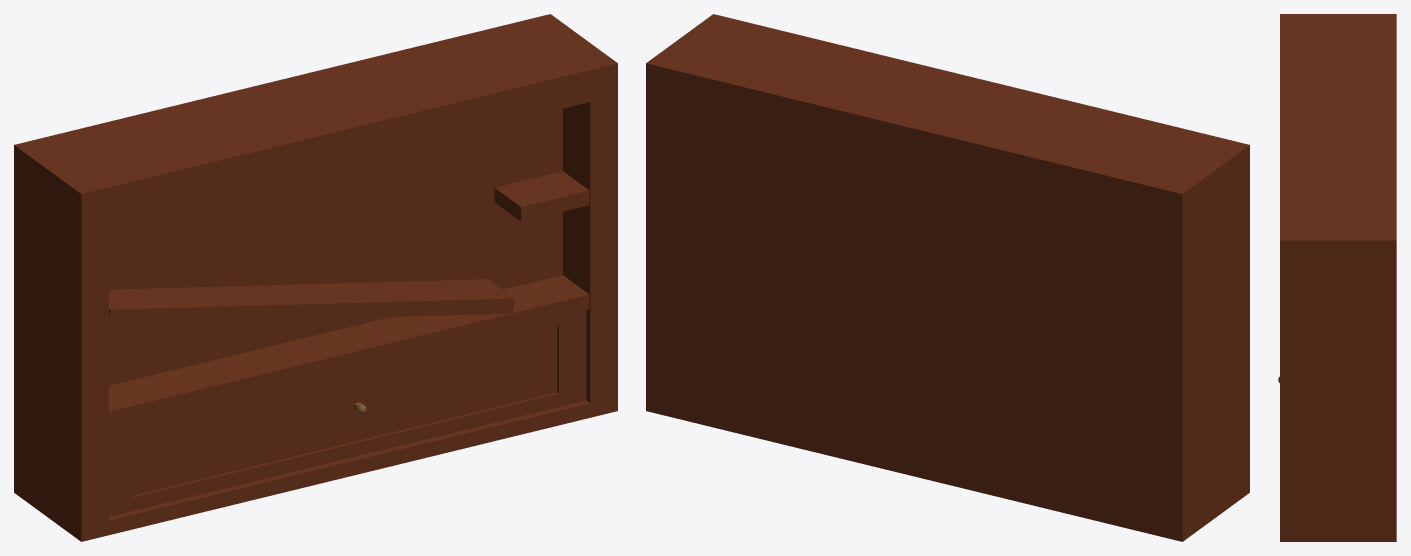
File: CabinetDestroy.fbx
3 views of the same model, side by side, from view 1: azimuth 30°, elevation 25°; view 2: azimuth 150°, elevation 25°; view 3: azimuth 270°, elevation 25° (orthographic). The views are drawn at different scales.
Parts seen in each view (by area): view 1: Cube.060; view 2: Cube.060; view 3: Cube.060.
Boxes of the visible parts, left/top/right/bottom form: Cube.060: left=14, top=14, right=617, bottom=541; Cube.060: left=646, top=14, right=1249, bottom=541; Cube.060: left=1278, top=14, right=1396, bottom=541.
Bounding box in the file's own units: 3.23 × 2 × 0.7137.
